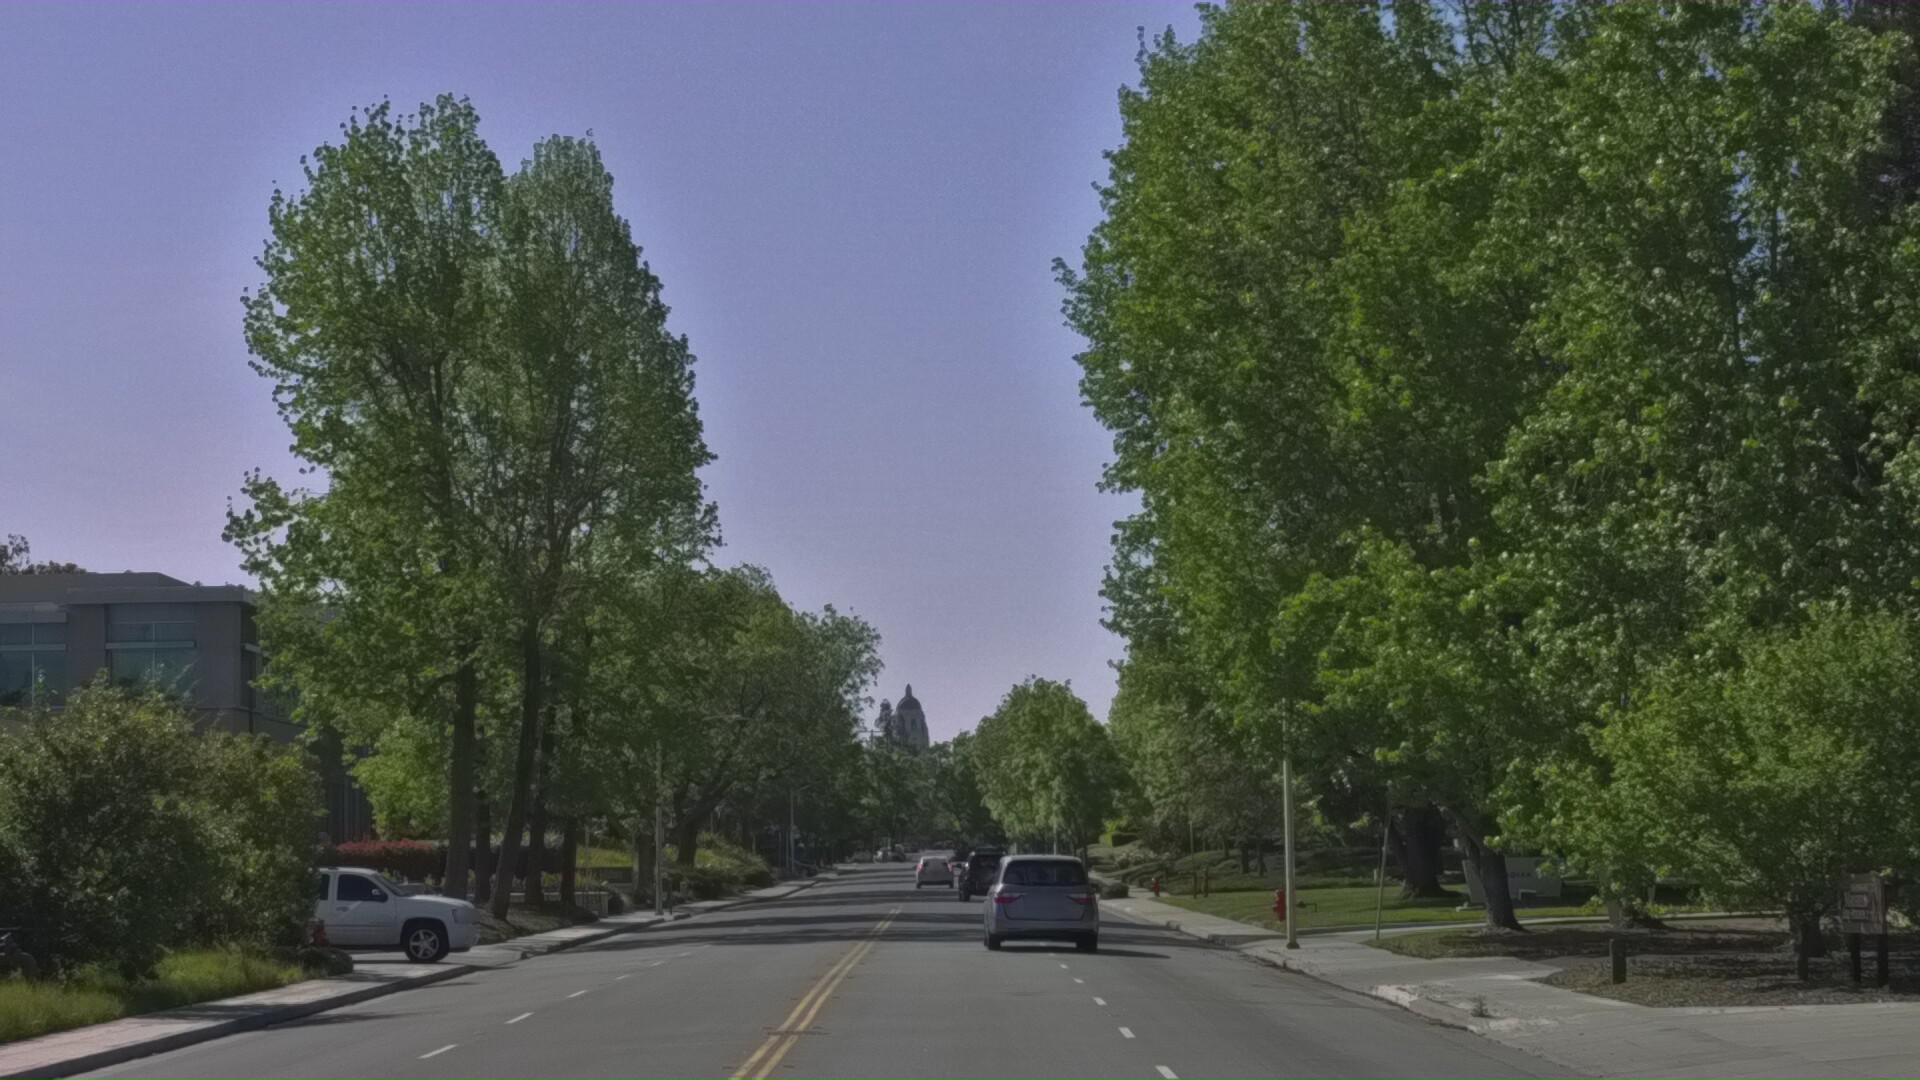car: (240, 964, 500, 1080), (975, 956, 1098, 1060)
